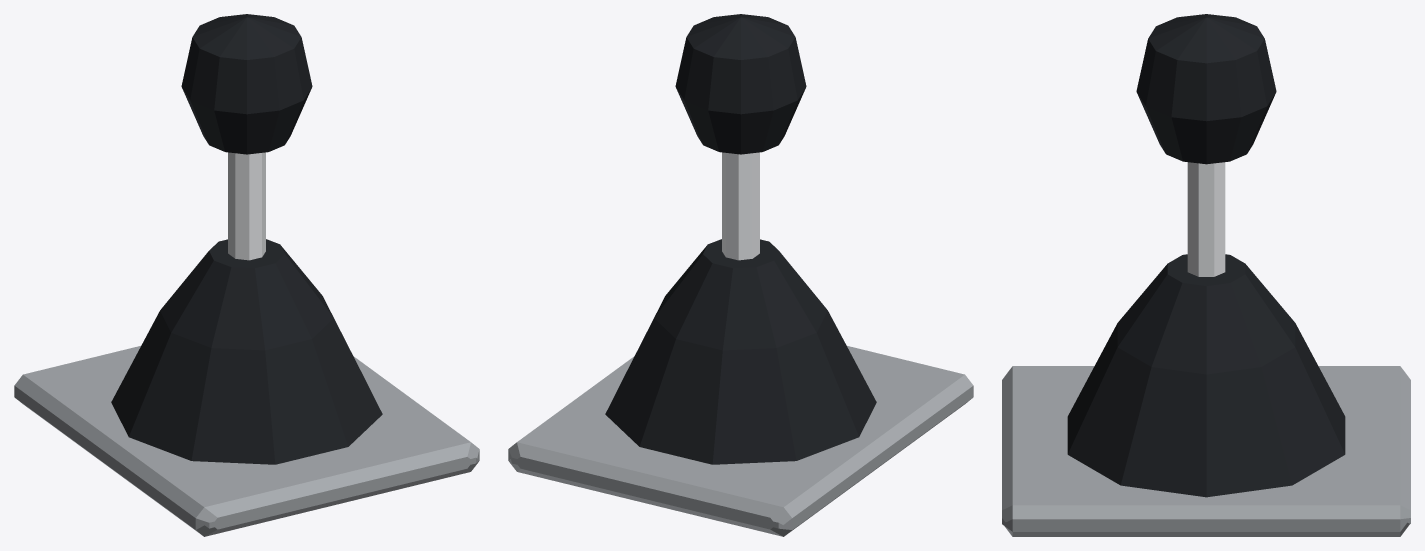
The model's file is short_shifter.glb.
3 renders of one model, left to right at view 1: azimuth 30°, elevation 25°; view 2: azimuth 150°, elevation 25°; view 3: azimuth 270°, elevation 25°, orthographic. The views are drawn at different scales.
Visible parts, largest first — view 1: model; view 2: model; view 3: model.
Boxes of the visible parts, x1=… form: model: x1=14, y1=14, x2=479, y2=536; model: x1=508, y1=14, x2=973, y2=536; model: x1=1002, y1=14, x2=1410, y2=536.
Bounding box in the file's own units: 0.12 × 0.17 × 0.14.
Materials: 3 (1 with a texture image).
